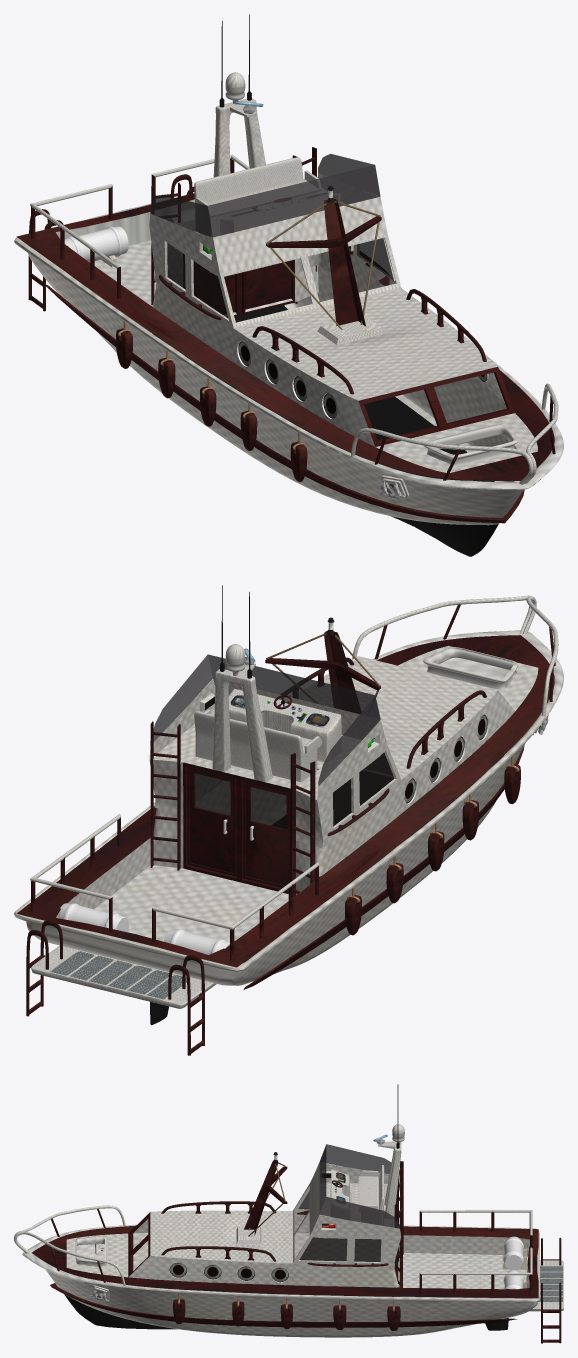
File: boat-minnow.glb
The picture shows the model from 3 angles, top to bottom: view 1: azimuth 30°, elevation 25°; view 2: azimuth 150°, elevation 25°; view 3: azimuth 270°, elevation 25°; orthographic projection. The views are drawn at different scales.
Visible parts, largest first — view 1: Object_44, Object_39, Object_38, Object_49, Object_45, Object_48, Object_5, Object_7, Object_19, Object_41; view 2: Object_44, Object_39, Object_38, Object_45, Object_49, Object_41, Object_29, Object_48, Object_5, Object_7; view 3: Object_44, Object_39, Object_38, Object_49, Object_45, Object_48, Object_5, Object_7, Object_41, Object_29.
Part boxes in pixels (x1,y1,x2,y2): Object_44: (14,157,563,525); Object_39: (16,174,554,481); Object_38: (29,158,555,523); Object_49: (150,153,393,317); Object_45: (30,98,537,472); Object_48: (154,14,498,556); Object_5: (64,208,194,262); Object_7: (238,341,487,418); Object_19: (266,200,380,329); Object_41: (151,147,316,334); Object_44: (14,595,563,985); Object_39: (16,636,554,1055); Object_38: (29,604,555,1053); Object_45: (30,645,538,1008); Object_49: (150,654,394,829); Object_41: (150,721,315,897); Object_29: (50,951,190,999); Object_48: (150,585,503,1025); Object_5: (59,903,229,954); Object_7: (404,714,487,803); Object_44: (14,1162,539,1337); Object_39: (40,1204,561,1343); Object_38: (31,1160,559,1342); Object_49: (299,1144,399,1261); Object_45: (66,1141,563,1311); Object_48: (64,1084,508,1330); Object_5: (503,1236,523,1298); Object_7: (169,1262,288,1282); Object_41: (394,1161,403,1287); Object_29: (538,1266,562,1301).
Size of the model in its own units: 3.54 by 5.24 by 10.84.
48 materials, 46 textured.
